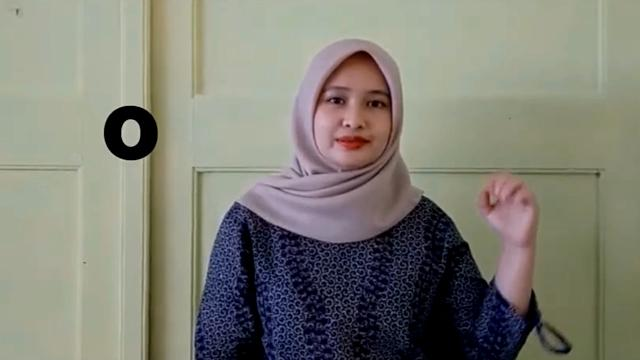O: (479, 174, 541, 238)
